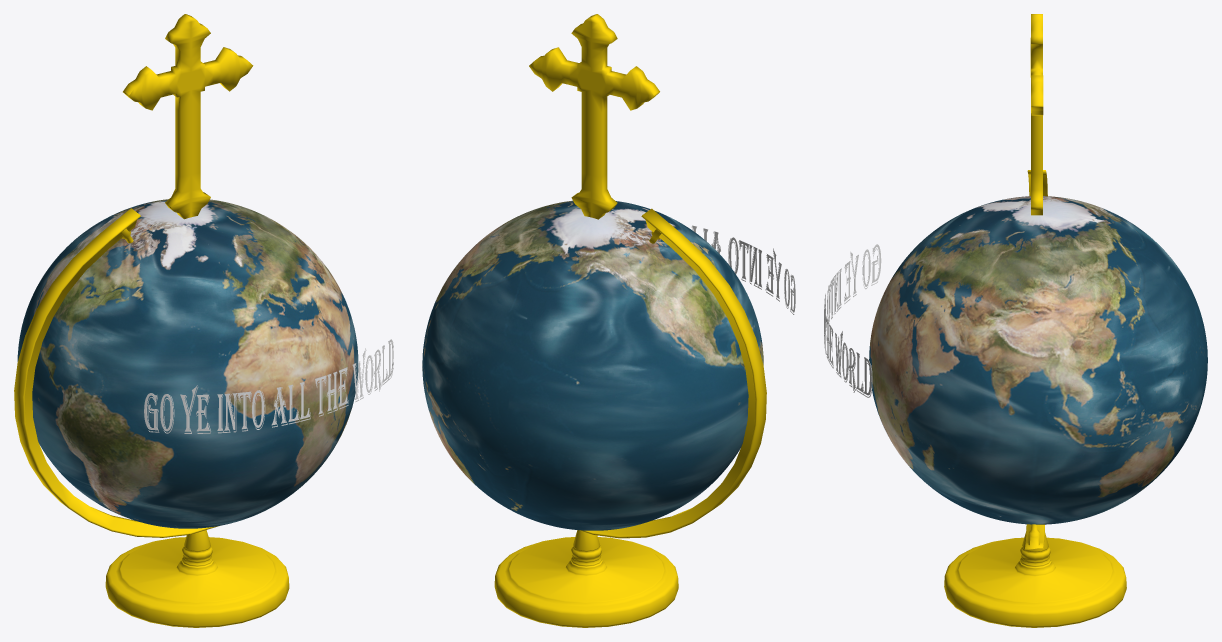
File: globe2.glb
The picture shows the model from 3 angles, left to right: view 1: azimuth 30°, elevation 25°; view 2: azimuth 150°, elevation 25°; view 3: azimuth 270°, elevation 25°; orthographic projection.
Visible parts, largest first — view 1: globe, Globe, Cross, Text; view 2: globe, Globe, Cross, Text; view 3: globe, Globe, Text, Cross.
Boxes of the visible parts, left/top/right/bottom form: globe: left=17, top=199, right=358, bottom=528; Globe: left=14, top=208, right=289, bottom=627; Cross: left=123, top=14, right=253, bottom=219; Text: left=144, top=339, right=393, bottom=433; globe: left=422, top=200, right=763, bottom=530; Globe: left=494, top=208, right=766, bottom=627; Cross: left=529, top=14, right=659, bottom=219; Text: left=691, top=225, right=795, bottom=314; globe: left=869, top=196, right=1207, bottom=524; Globe: left=944, top=170, right=1126, bottom=627; Text: left=824, top=244, right=881, bottom=397; Cross: left=1030, top=14, right=1043, bottom=215.
Size of the model in its own units: 11.15 by 19.33 by 11.77.
4 materials, 1 textured.
